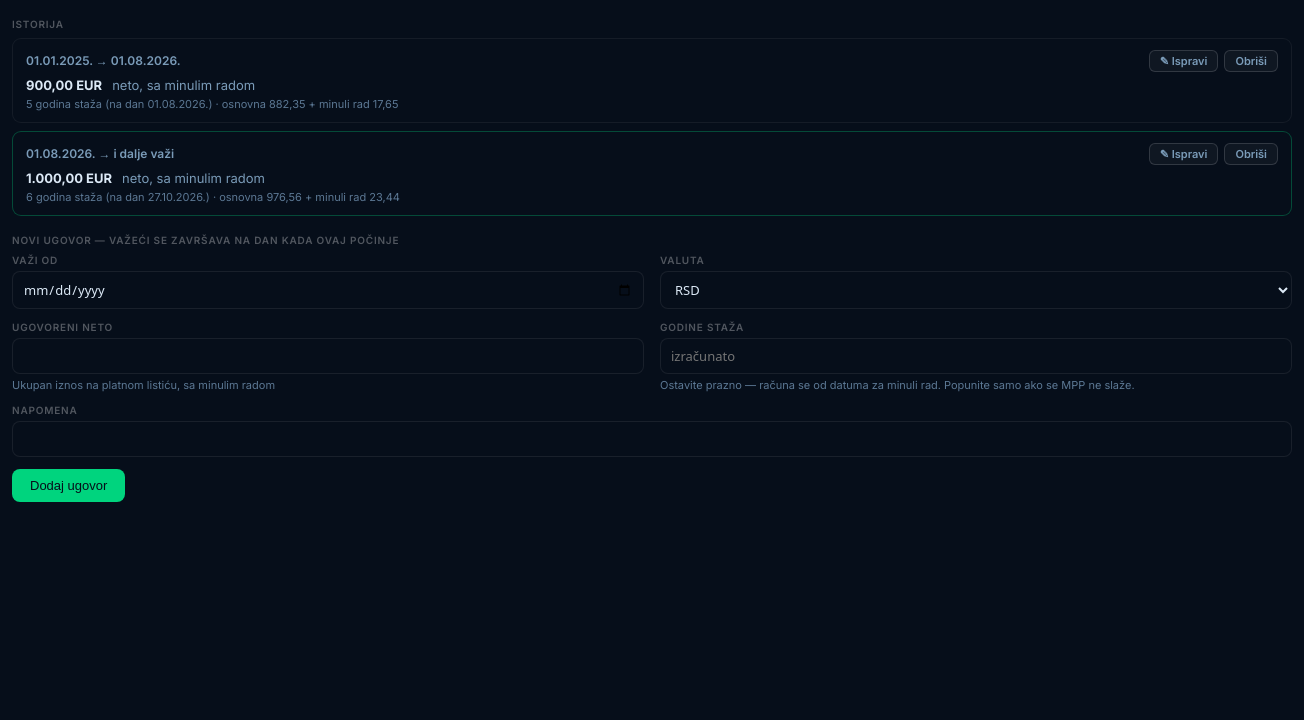
correcting a contract › goes back to the add form on cancel
Click the button titled "Ispravi ovaj ugovor" in the row of "i dalje važi" at x=1184, y=154, box [1149,143,1218,165]
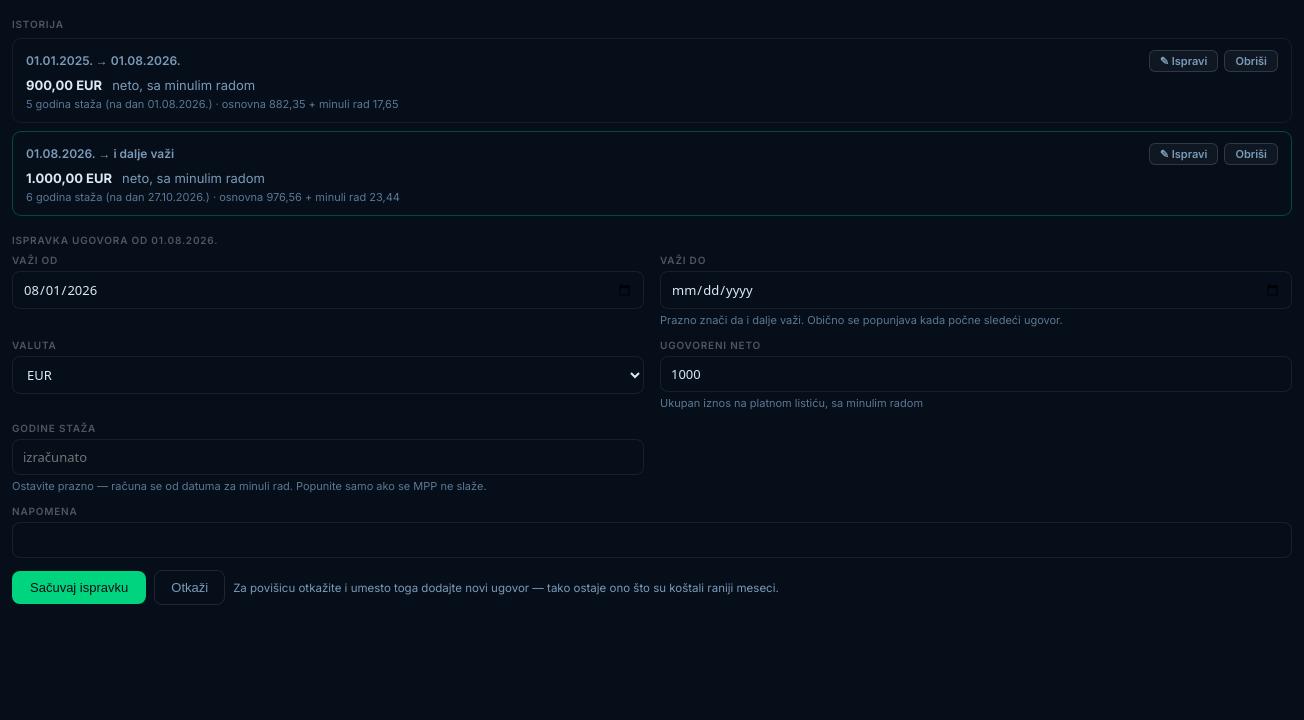
Click the button "Otkaži" at x=190, y=588, box [154,570,225,605]
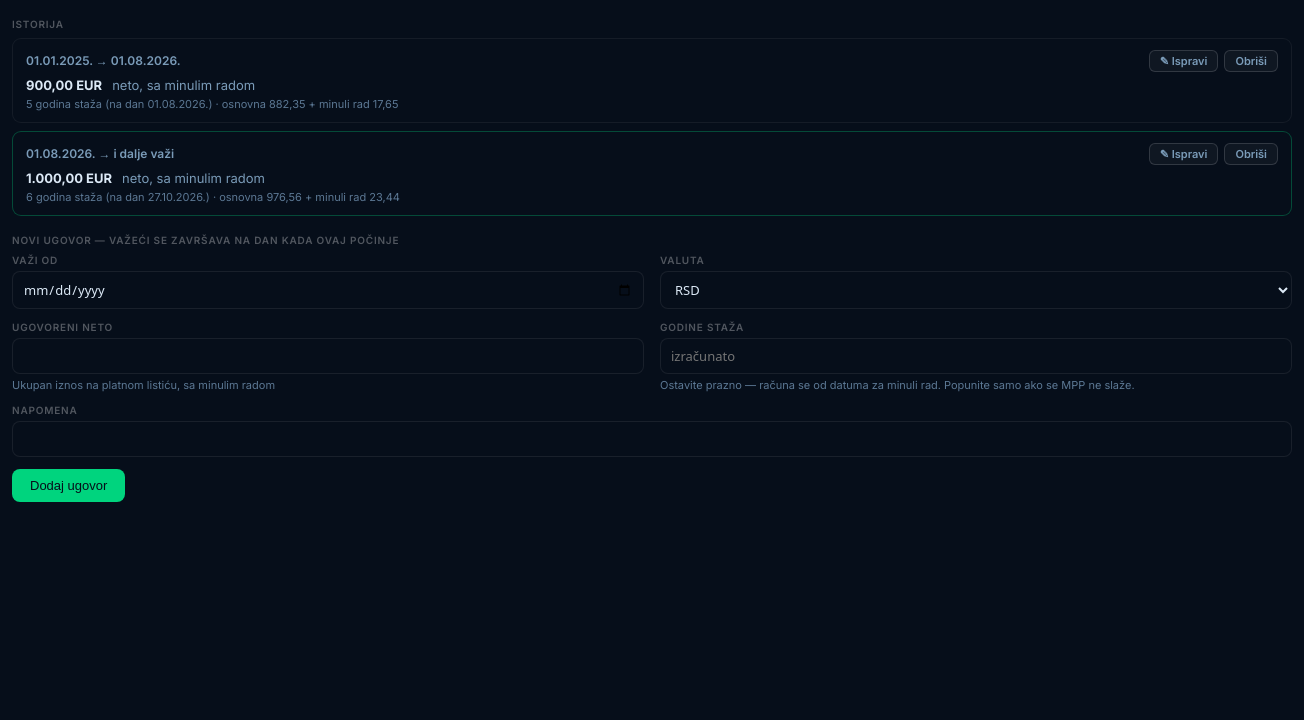
Expected: the button "Dodaj ugovor" is shown, [12,469,125,502]
